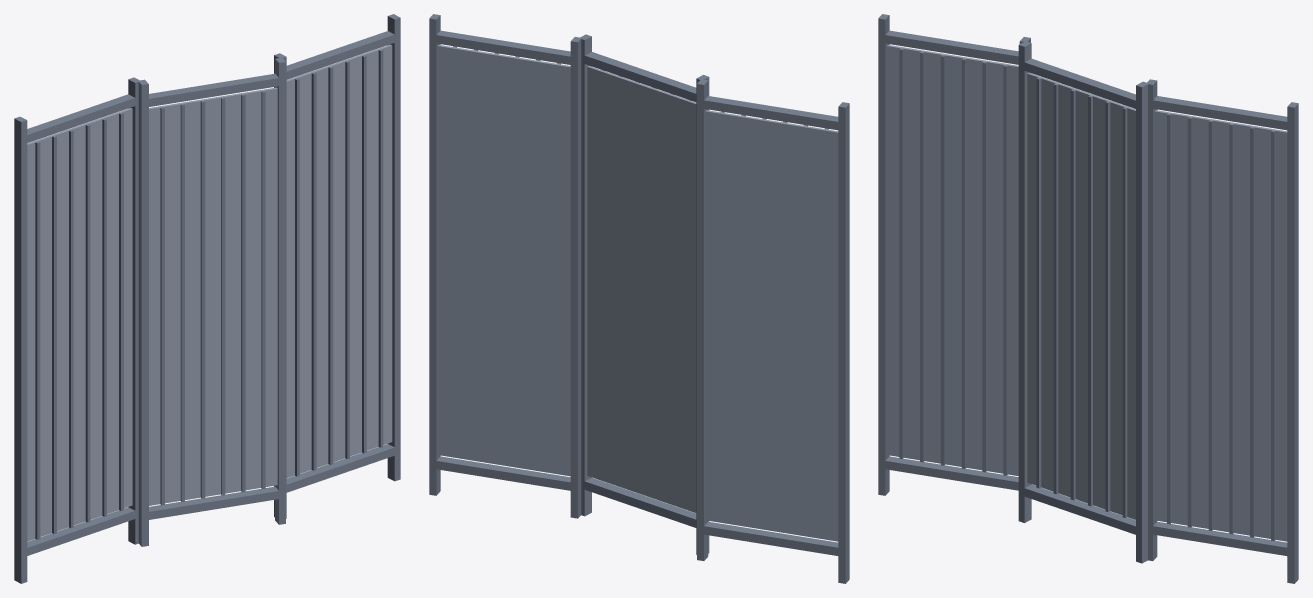
Rendered from folding-screen-lite.glb.
3 renders of one model, left to right at view 1: azimuth 30°, elevation 25°; view 2: azimuth 150°, elevation 25°; view 3: azimuth 330°, elevation 25°, orthographic. The views are drawn at different scales.
Visible parts, largest first — view 1: soft, accent, body; view 2: soft, body; view 3: soft, accent, body.
Part boxes in pixels (left/top/right/bottom): soft: left=27, top=44, right=392, bottom=541; accent: left=35, top=49, right=383, bottom=539; body: left=14, top=14, right=400, bottom=583; soft: left=438, top=45, right=838, bottom=541; body: left=429, top=14, right=849, bottom=583; soft: left=887, top=45, right=1287, bottom=541; accent: left=899, top=48, right=1275, bottom=540; body: left=878, top=14, right=1298, bottom=583.
Size of the model in its own units: 1.51 by 1.7 by 0.1486.
